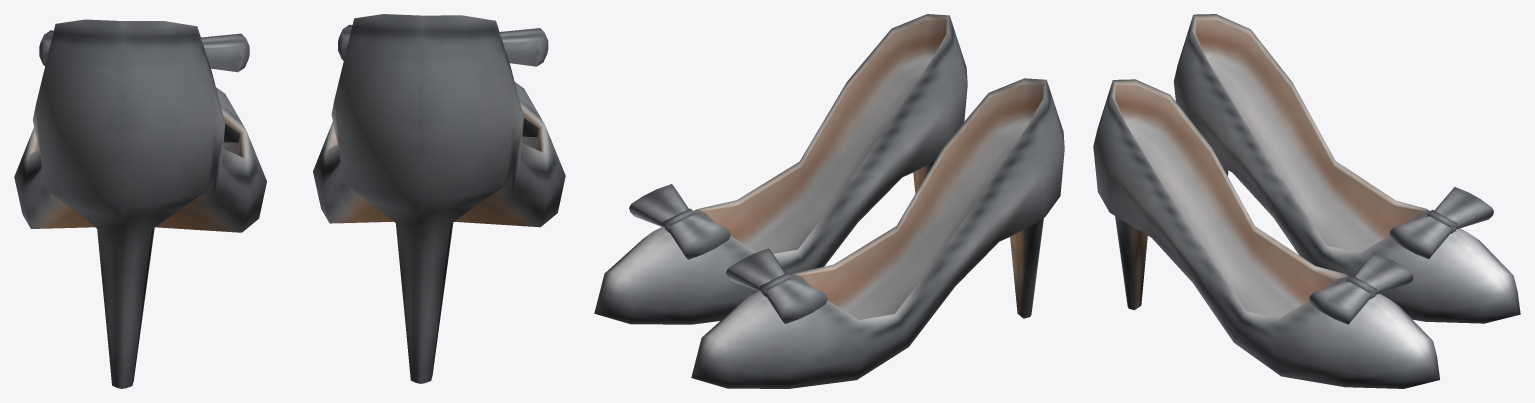
The model's file is ZhiBanShi_01_gaogenxie_01.FBX.
The picture shows the model from 3 angles, left to right: view 1: azimuth 30°, elevation 25°; view 2: azimuth 150°, elevation 25°; view 3: azimuth 270°, elevation 25°; orthographic projection. The views are drawn at different scales.
Parts seen in each view (by area): view 1: ZhiBanShi_gaogenxiei_01; view 2: ZhiBanShi_gaogenxiei_01; view 3: ZhiBanShi_gaogenxiei_01.
Part boxes in pixels (x1,y1,x2,y2): ZhiBanShi_gaogenxiei_01: (14,14,565,388); ZhiBanShi_gaogenxiei_01: (594,14,1064,388); ZhiBanShi_gaogenxiei_01: (1093,14,1520,388).
Size of the model in its own units: 96.63 by 58.4 by 102.
